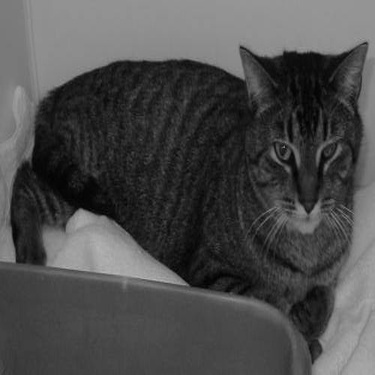cat: (8, 39, 368, 365)
